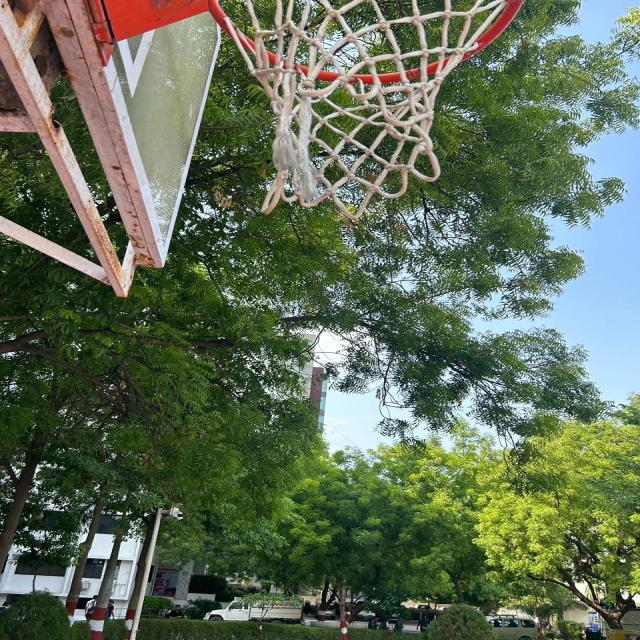hoop: (84, 0, 539, 231)
